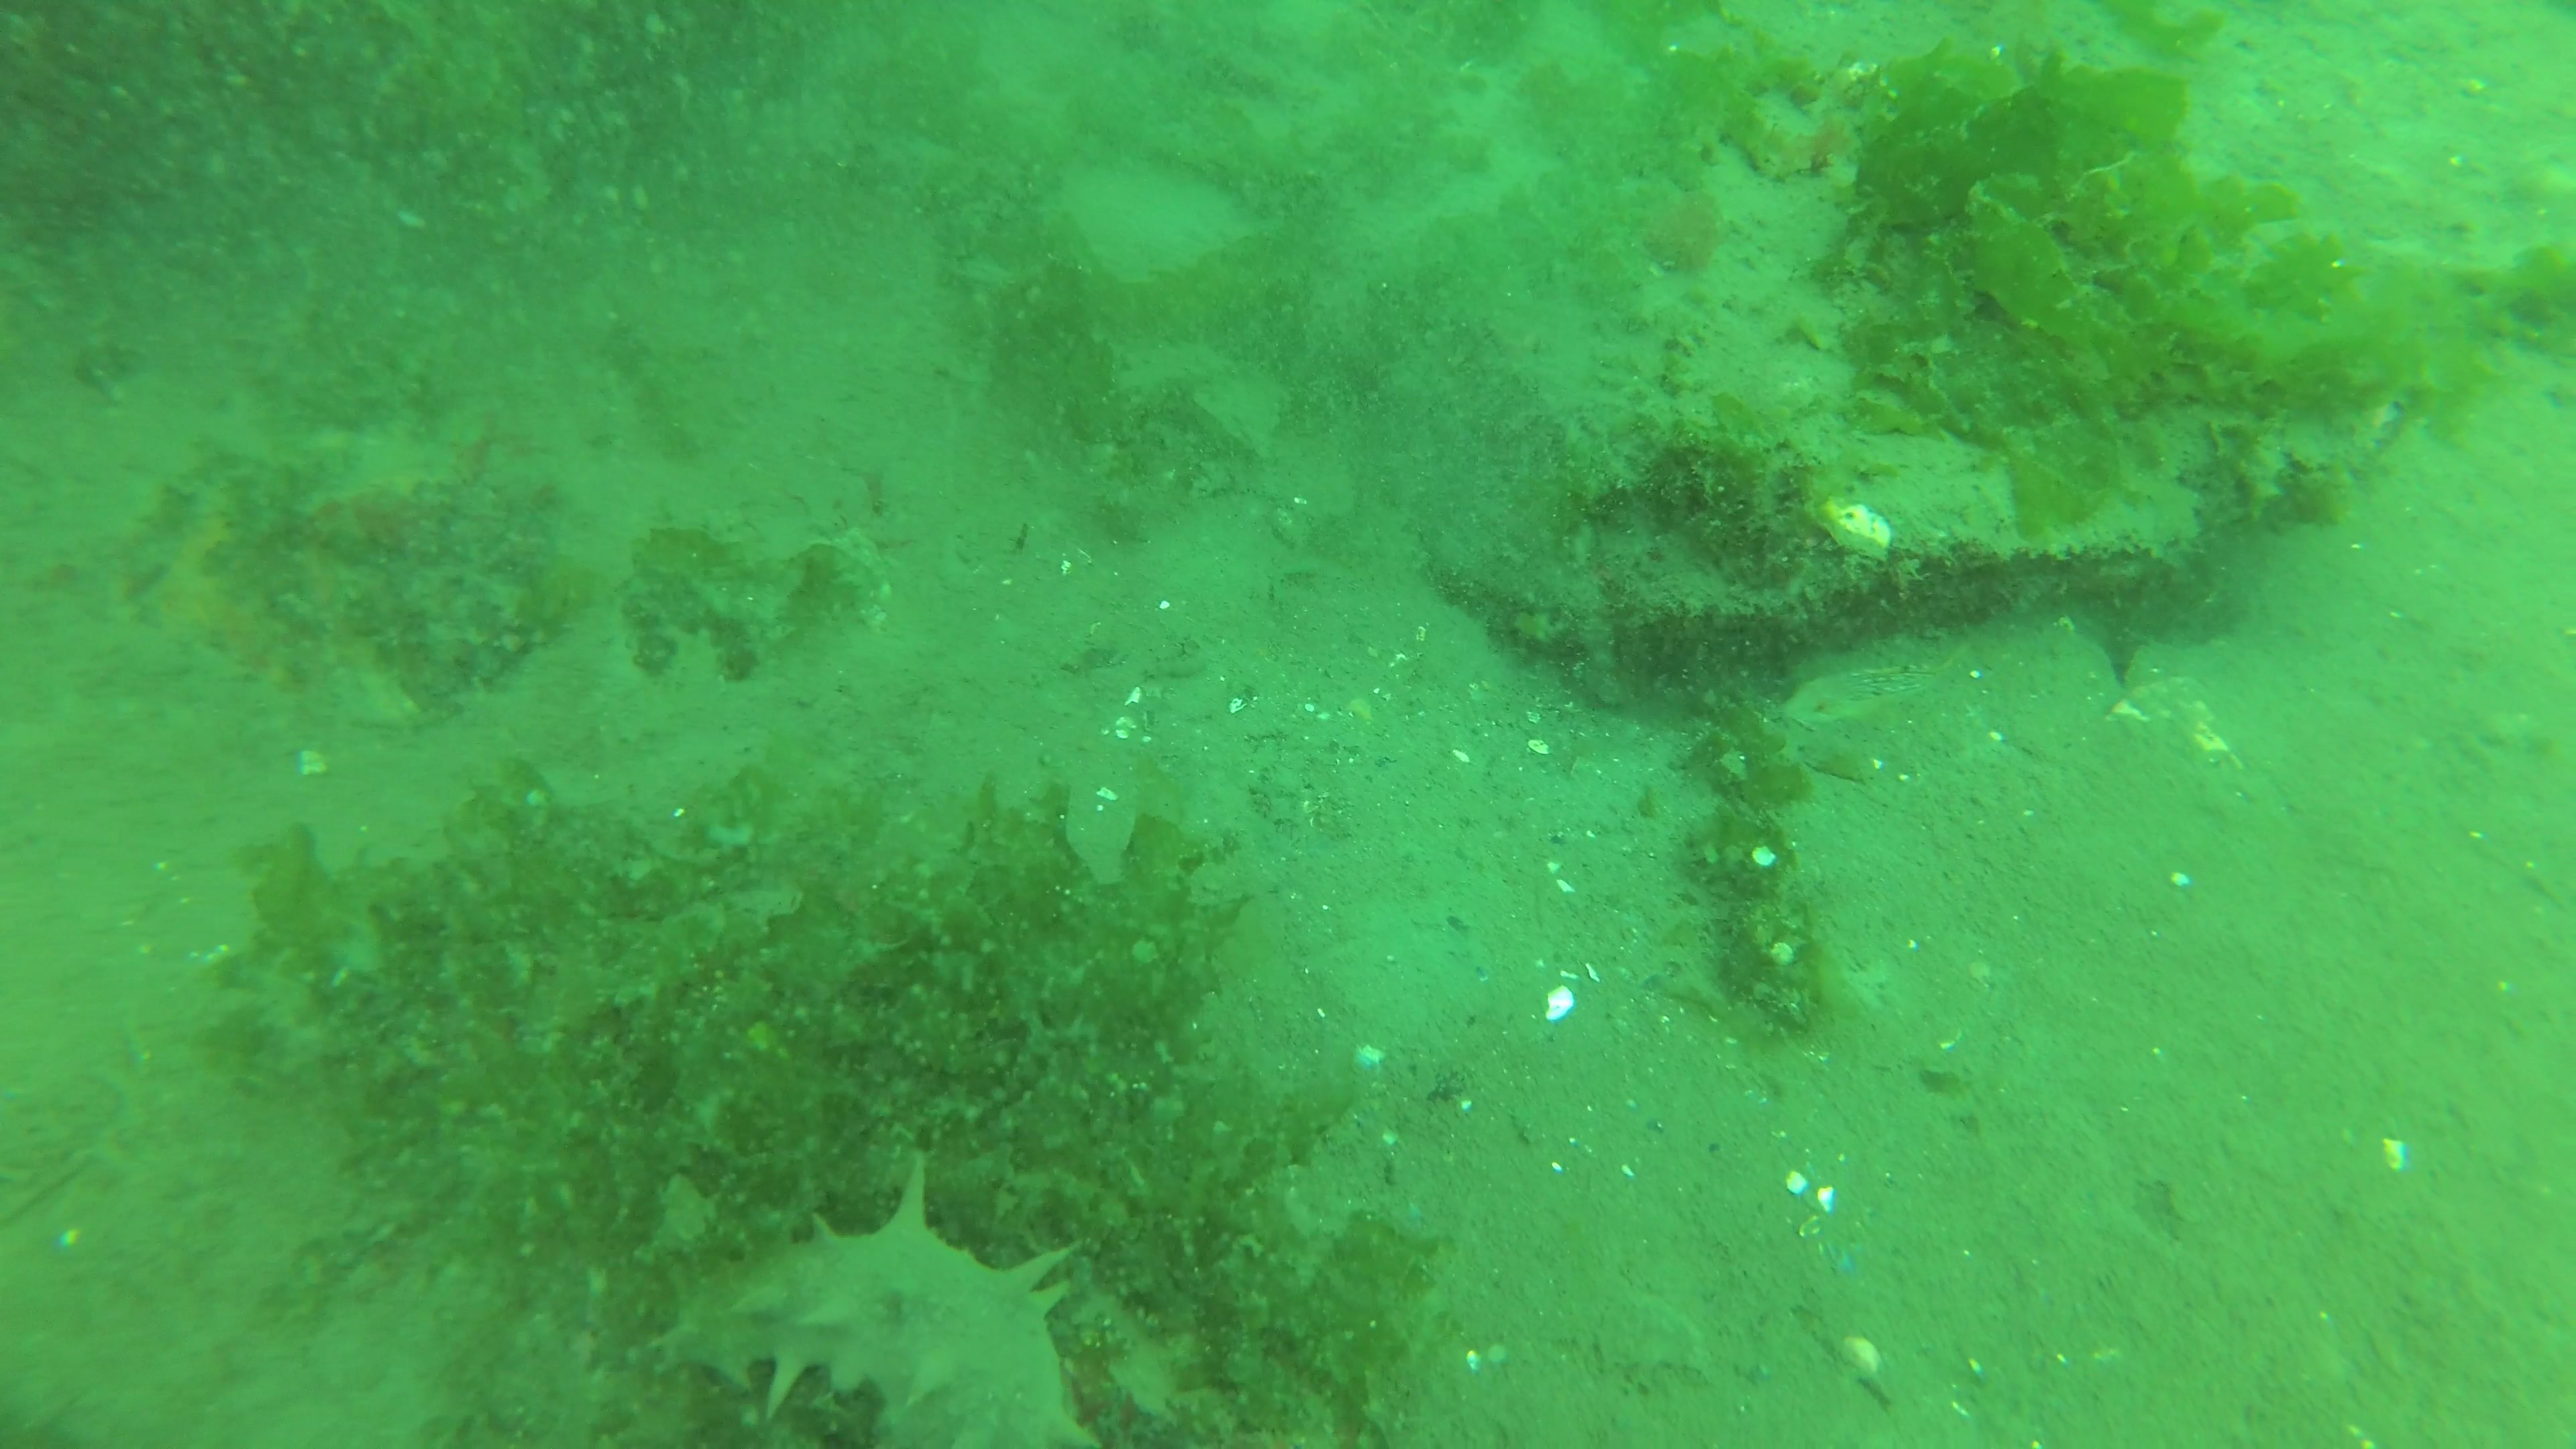holothurian: (648, 1146, 1104, 1449)
